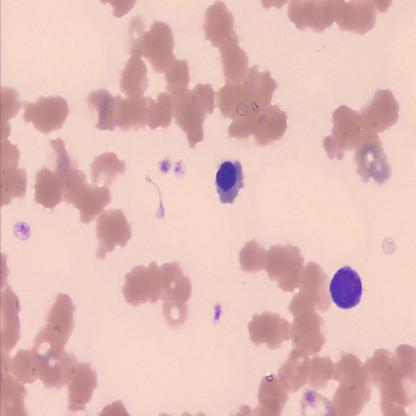NRC: (213, 158, 247, 209), (328, 265, 364, 310)
